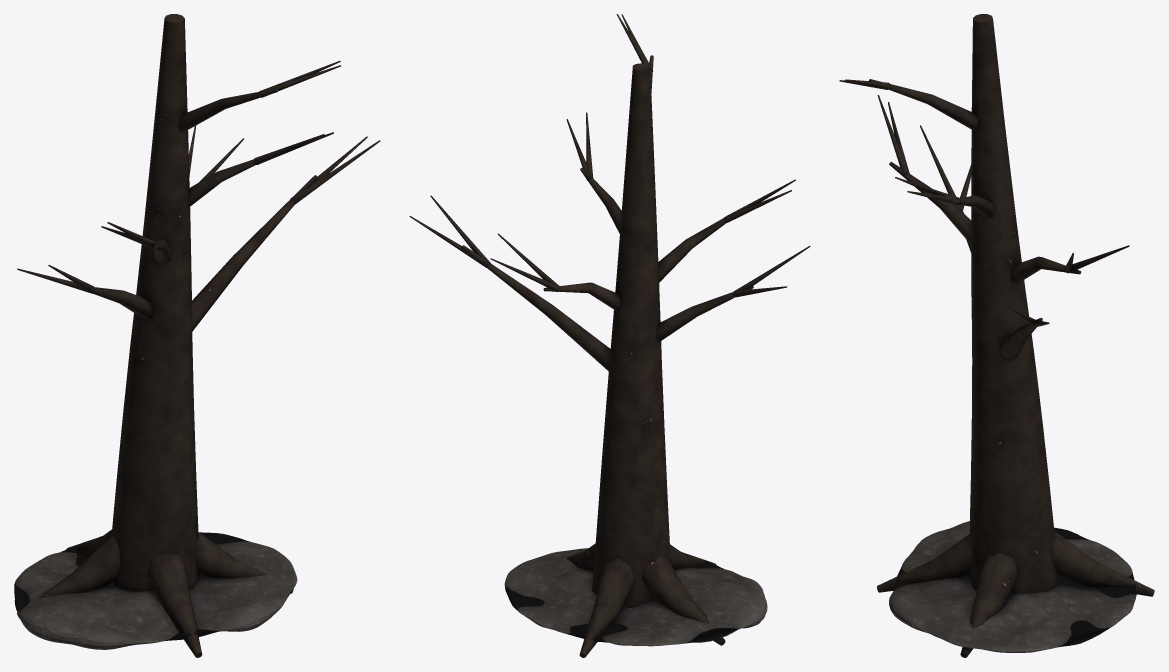
Rendered from vale_arvore_queimada_a.glb.
3 renders of one model, left to right at view 1: azimuth 30°, elevation 25°; view 2: azimuth 150°, elevation 25°; view 3: azimuth 270°, elevation 25°, orthographic. The views are drawn at different scales.
Parts seen in each view (by area): view 1: vale_arvore_queimada_a_tronco; view 2: vale_arvore_queimada_a_tronco; view 3: vale_arvore_queimada_a_tronco.
Boxes of the visible parts, box(x1,y1,x2,y2) form: vale_arvore_queimada_a_tronco: box(14, 14, 380, 657); vale_arvore_queimada_a_tronco: box(409, 14, 810, 657); vale_arvore_queimada_a_tronco: box(839, 14, 1154, 657).
Size of the model in its own units: 3.49 by 5.21 by 2.49.
1 material, 1 textured.
